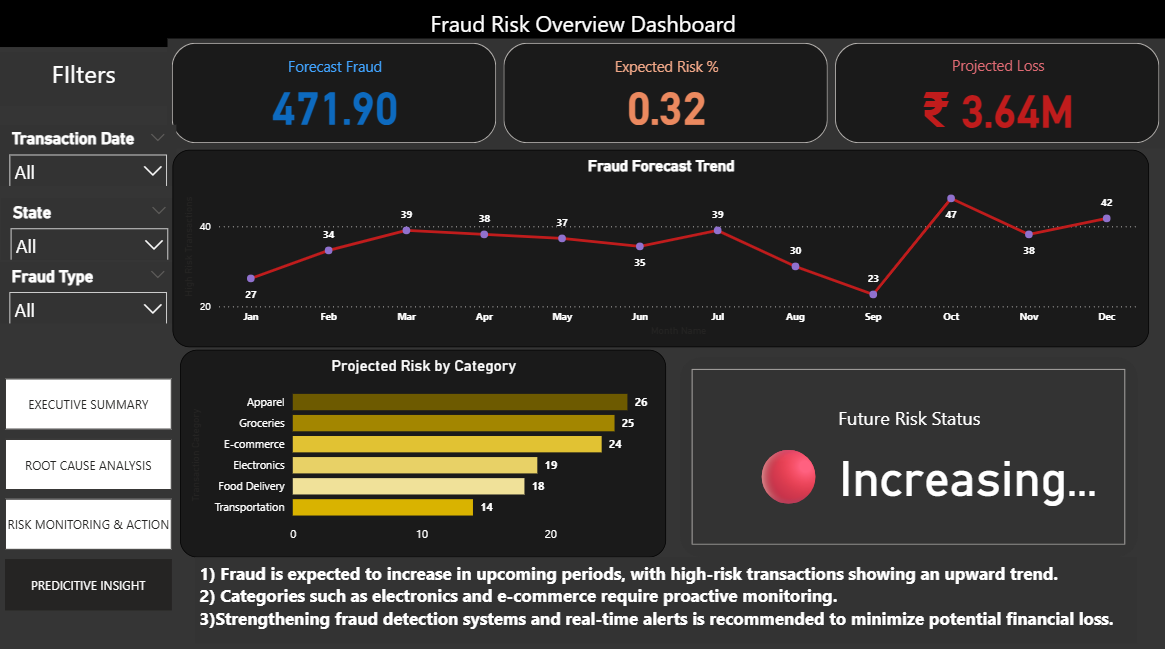

Layout of this report page (visuals, bound fields, positions):
{"tool":"powerbi","page":{"name":"PREDICITIVE INSIGHT","canvas":[1280,720],"ordinal":3},"visuals":[{"type":"textbox","box":[0,0,1280.3,46.7],"z":0},{"type":"textbox","box":[0,10,1280.3,46.7],"z":1},{"type":"textbox","box":[0,9.6,1280.3,46.7],"z":2},{"type":"cardVisual","fields":{"Data":["Credit Card Fraud Risk Analysis.Forecast Fraud","Credit Card Fraud Risk Analysis.Expected Risk %","Credit Card Fraud Risk Analysis.Projected Loss"]},"box":[183.6,46.7,1096.4,120.8],"z":3},{"type":"barChart","title":"Projected Risk by Category","fields":{"Y":["Credit Card Fraud Risk Analysis.High Risk Transactions"],"Category":["Credit Card Fraud Risk Analysis.Transaction Category"]},"box":[197.6,388.3,533.8,227.8],"z":4},{"type":"slicer","fields":{"Values":["Credit Card Fraud Risk Analysis.Transaction Date.Variation.Date Hierarchy.Month"]},"box":[0,141.3,193.5,67.2],"z":6},{"type":"textbox","box":[0,61.7,183.9,59],"z":7},{"type":"slicer","fields":{"Values":["Credit Card Fraud Risk Analysis.State"]},"box":[1.4,222.3,193.5,67.2],"z":8},{"type":"slicer","fields":{"Values":["Credit Card Fraud Risk Analysis.Fraud Type"]},"box":[0,292.3,193.5,67.2],"z":9},{"type":"cardVisual","title":"Fraud Distribution by Transaction Value Range","fields":{"Data":["Credit Card Fraud Risk Analysis.Future Risk Status"]},"box":[746.5,396.6,502.2,219.6],"z":10},{"type":"lineChart","title":"Fraud Forecast Trend","fields":{"Category":["Date Table.Month Name"],"Y":["Credit Card Fraud Risk Analysis.High Risk Transactions"]},"box":[189.4,168.8,1071.7,216.8],"z":11},{"type":"pageNavigator","box":[5.5,419.9,183.9,255.2],"z":12},{"type":"textbox","box":[214.1,616.1,1034.7,94.7],"z":13}]}

Visuals, with their boxes in screenshot pixels (x1, y1, x2, y2), scaled from the page's 1280x720 canvas onto the 1165x649 screenshot:
textbox: [0, 0, 1164, 42]
textbox: [0, 9, 1164, 51]
textbox: [0, 9, 1164, 51]
cardVisual - Credit Card Fraud Risk Analysis.Forecast Fraud x Credit Card Fraud Risk Analysis.Expected Risk %: [167, 42, 1164, 151]
"Projected Risk by Category" barChart: [180, 350, 666, 555]
slicer - Credit Card Fraud Risk Analysis.Transaction Date.Variation.Date Hierarchy.Month: [0, 127, 176, 188]
textbox: [0, 56, 167, 109]
slicer - Credit Card Fraud Risk Analysis.State: [1, 200, 177, 261]
slicer - Credit Card Fraud Risk Analysis.Fraud Type: [0, 263, 176, 324]
"Fraud Distribution by Transaction Value Range" cardVisual: [679, 357, 1137, 555]
"Fraud Forecast Trend" lineChart: [172, 152, 1148, 348]
pageNavigator: [5, 378, 172, 609]
textbox: [195, 555, 1137, 641]
